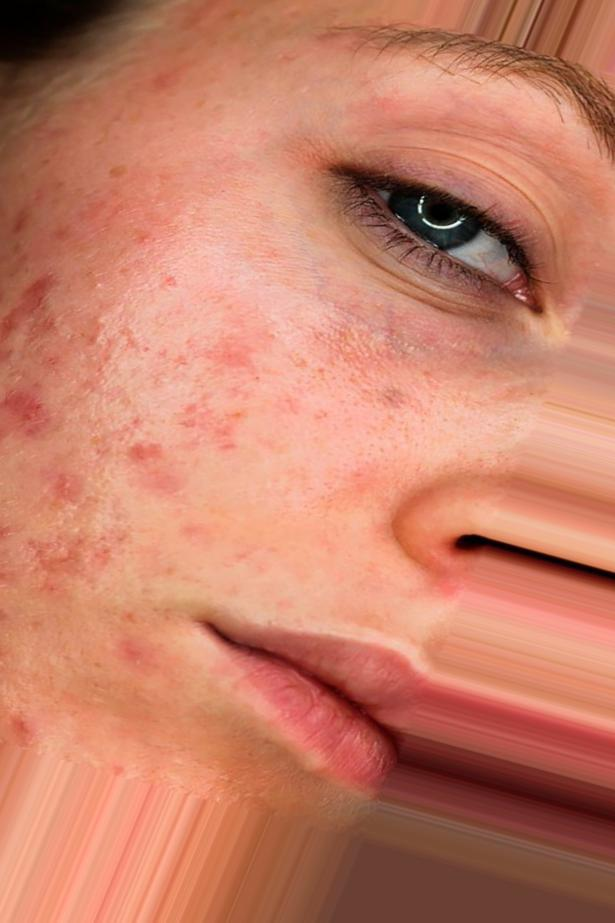Acne: (103, 403, 203, 474), (3, 513, 90, 594), (0, 268, 75, 350), (6, 366, 75, 445), (96, 331, 190, 377), (43, 458, 105, 524), (88, 268, 148, 329), (108, 178, 178, 230), (106, 603, 160, 667), (208, 338, 265, 385), (141, 61, 200, 99)
